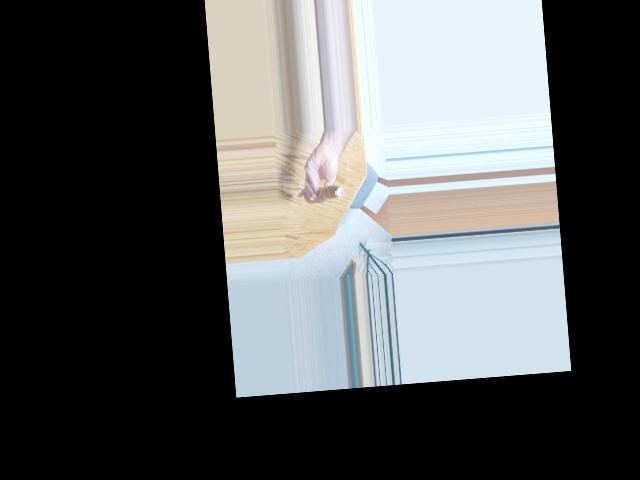sweet_potato: (305, 183, 338, 204)
